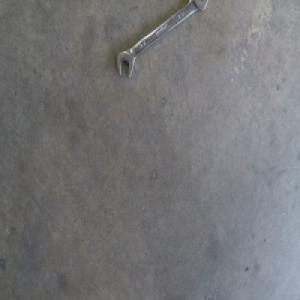Wrench: (117, 0, 207, 78)
